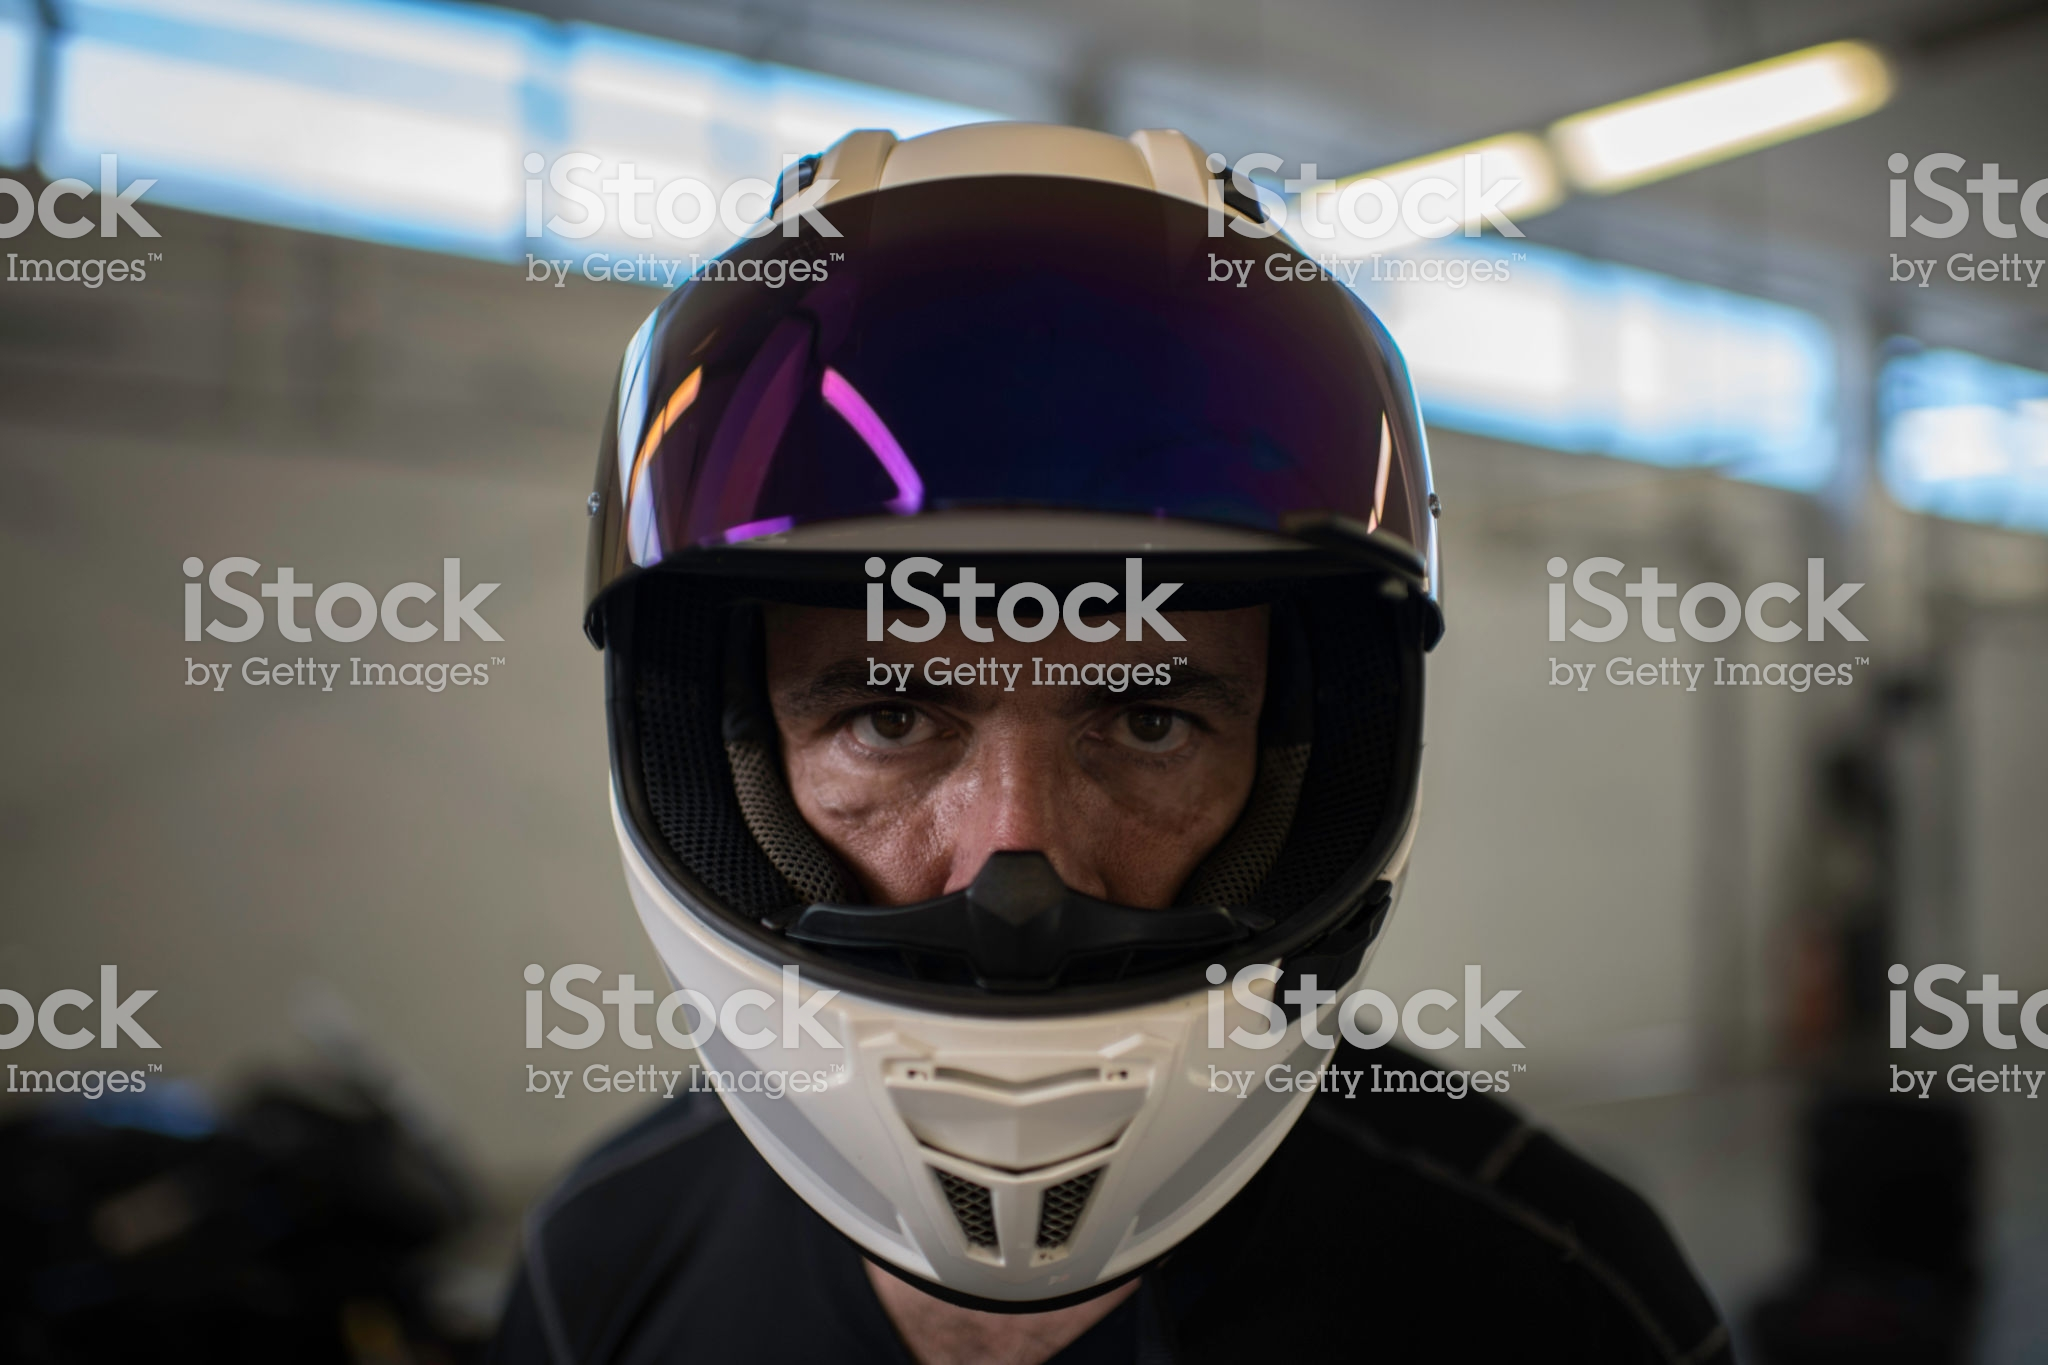helmet: (627, 186, 1437, 1208)
